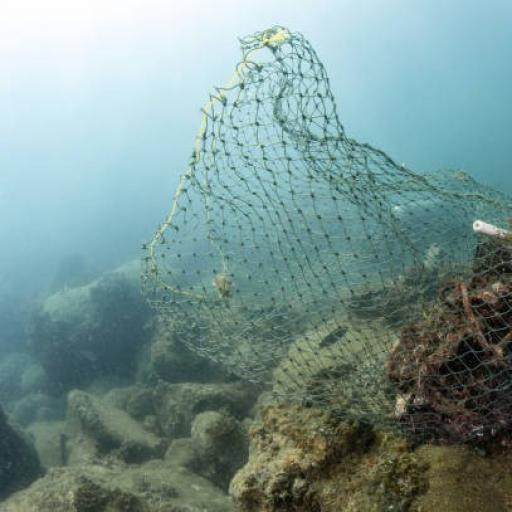net: (136, 23, 512, 449)
